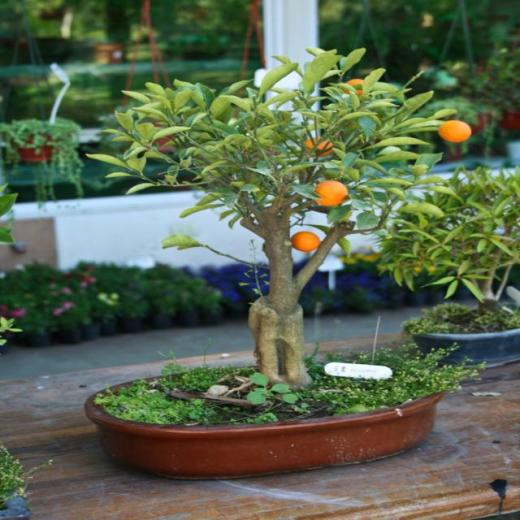Grape: (314, 181, 347, 206), (438, 120, 471, 142), (305, 136, 334, 157), (292, 231, 320, 252), (342, 80, 362, 96)
